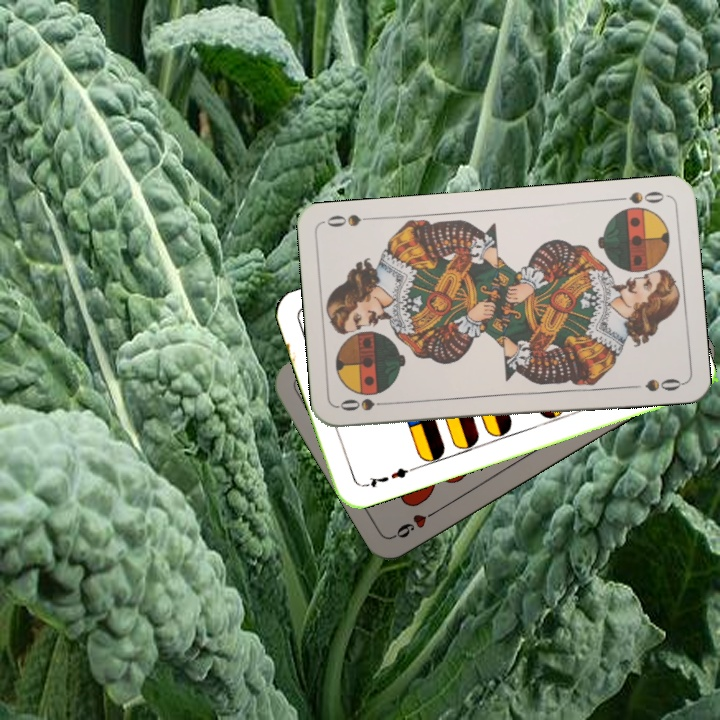E7: (358, 463, 416, 490)
H9: (390, 504, 443, 541)
SO: (336, 394, 395, 414), (610, 187, 670, 206)
